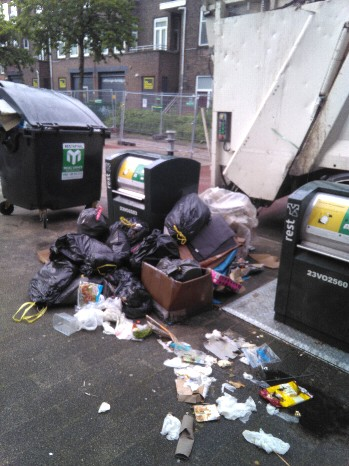Container: (285, 187, 349, 355), (105, 146, 187, 217)
Rest: (73, 255, 169, 328), (128, 214, 218, 285), (197, 185, 259, 266), (41, 255, 99, 330), (85, 205, 153, 268), (53, 216, 114, 268)
